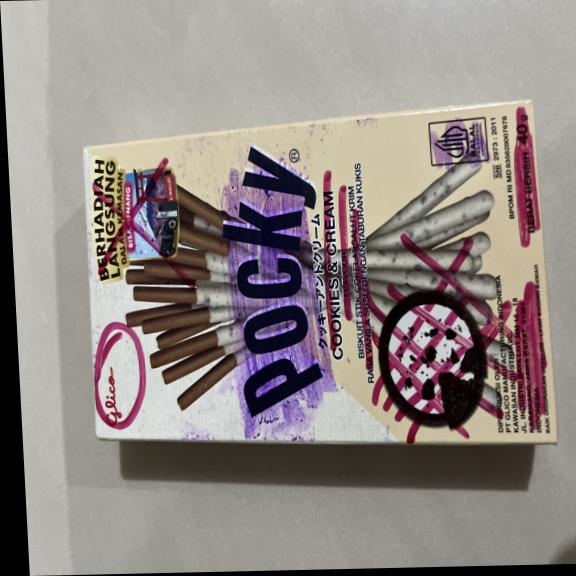Kertas: (74, 101, 559, 450)
